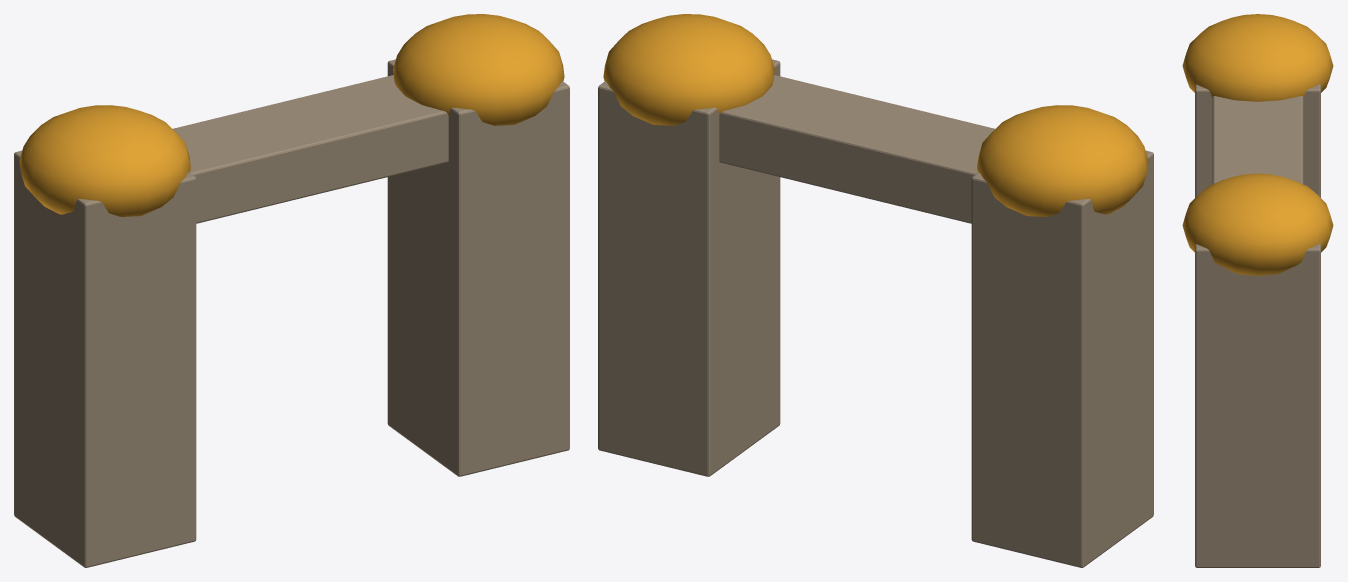
The model's file is DomeGate.fbx.
3 views of the same model, side by side, from view 1: azimuth 30°, elevation 25°; view 2: azimuth 150°, elevation 25°; view 3: azimuth 270°, elevation 25° (orthographic). The views are drawn at different scales.
Parts seen in each view (by area): view 1: Landmark_DomeGate; view 2: Landmark_DomeGate; view 3: Landmark_DomeGate.
Boxes of the visible parts, x1,y1,x2,y2 form: Landmark_DomeGate: (14, 14, 569, 567); Landmark_DomeGate: (598, 14, 1153, 567); Landmark_DomeGate: (1182, 14, 1333, 567).
Bounding box in the file's own units: 10.5 × 7.9 × 3.
